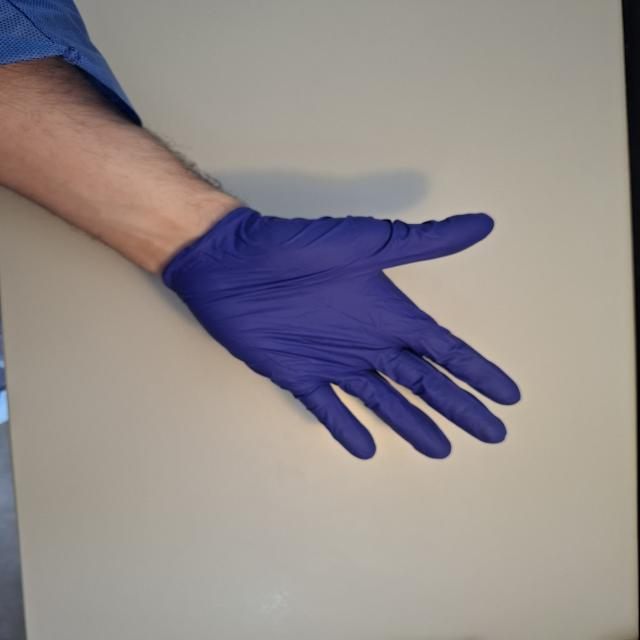glove_on: (155, 194, 526, 462)
